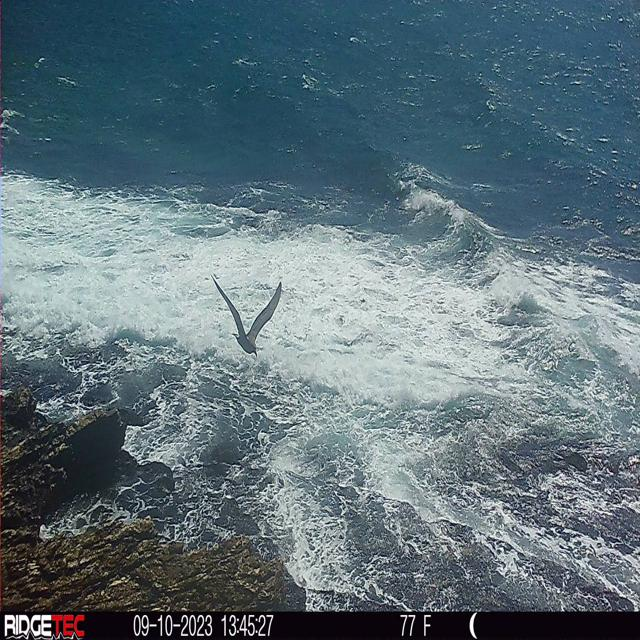bird: (210, 273, 282, 358)
